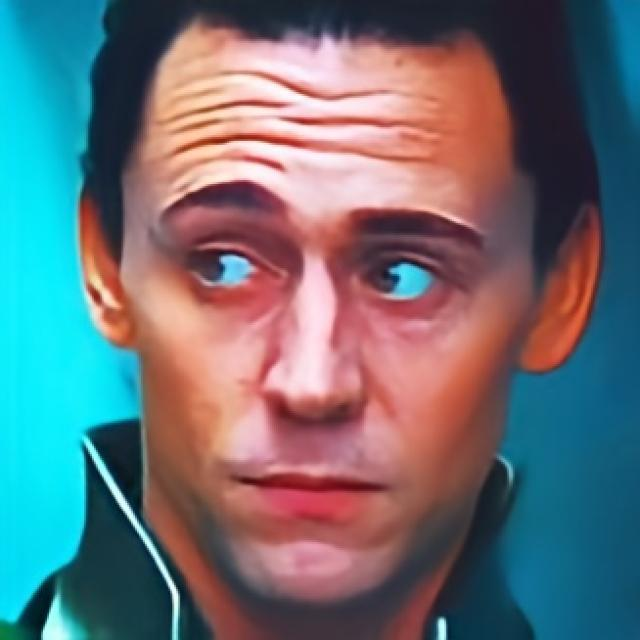surprise: (118, 13, 532, 612)
